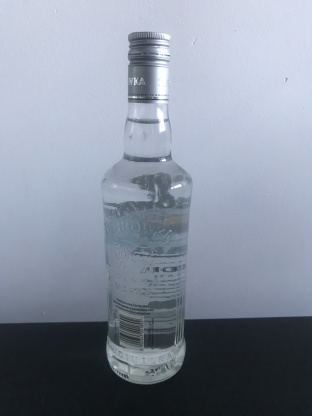nakretka: (126, 29, 172, 106)
